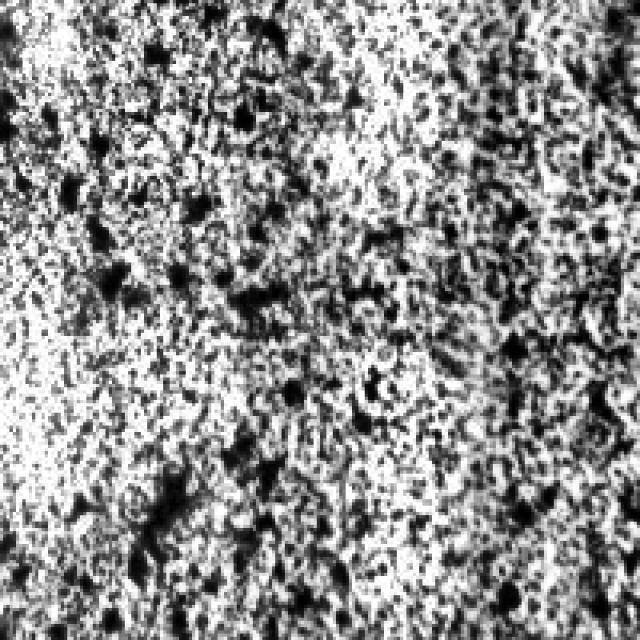Rolled_in_Scale: (35, 3, 634, 630)
